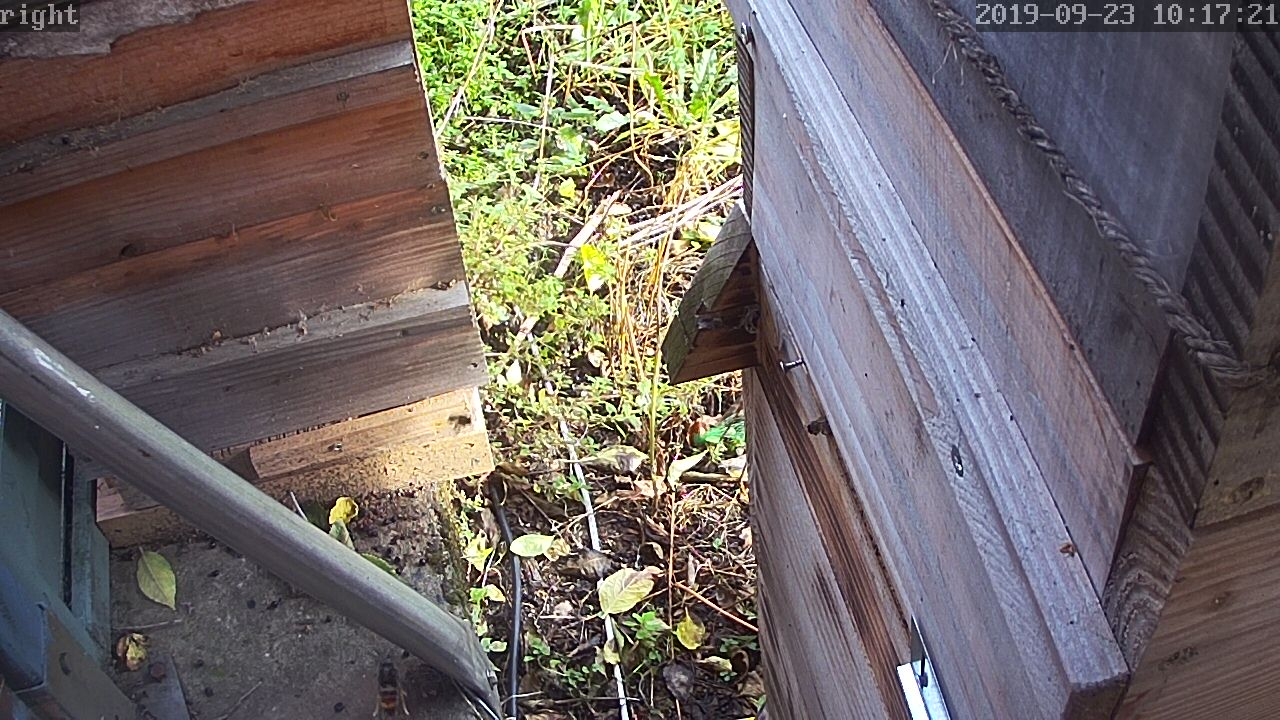bee: (805, 409, 835, 437)
hornet: (366, 649, 412, 718)
